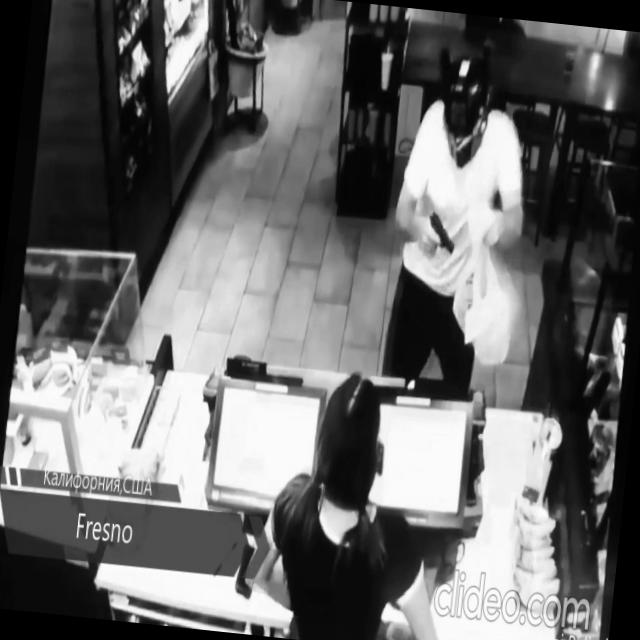gun: (425, 206, 459, 256)
person: (240, 356, 471, 640)
person with a gun: (378, 43, 542, 386)
